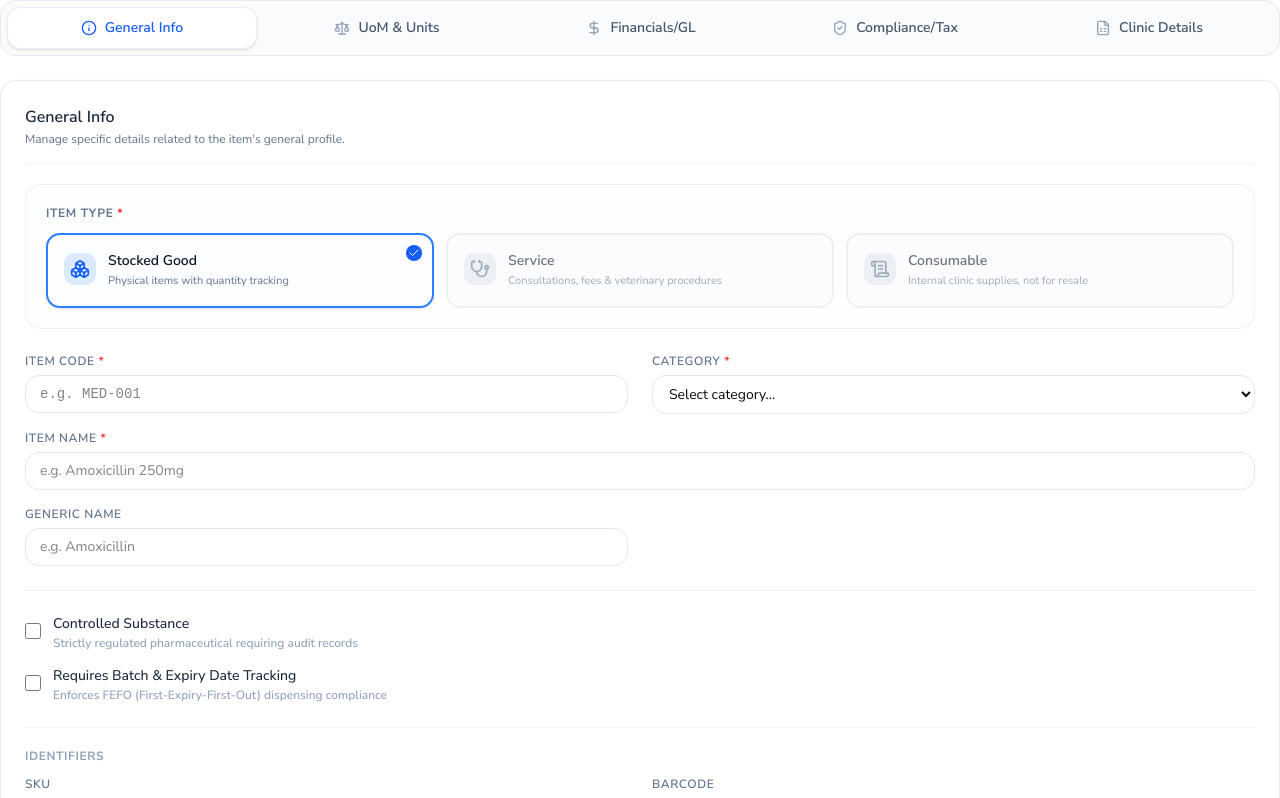
Scenario: ItemForm › Tab navigation › switches to financials tab on click
The image size is (1280, 798).
Click the button "Financials/GL" at (641, 28), box [517,7,765,49]
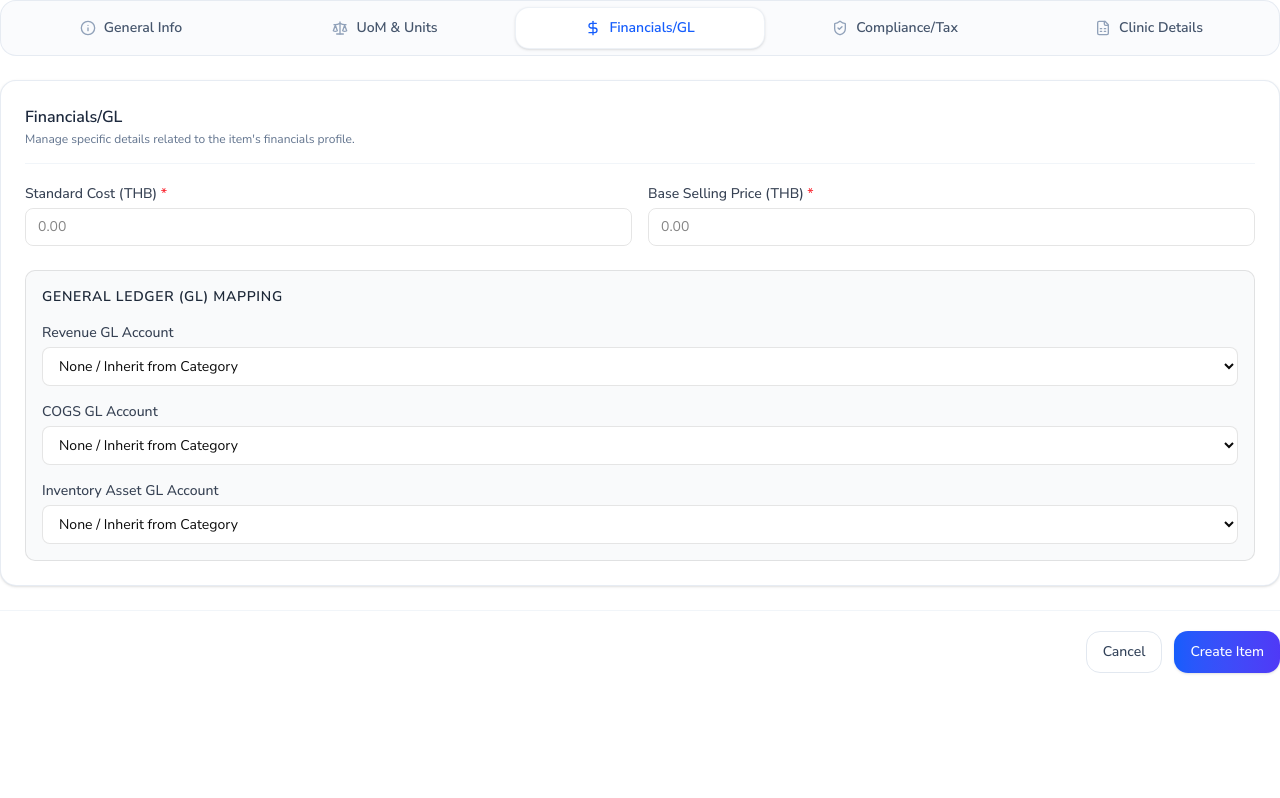
Now the number field labelled "Base Selling Price (THB) *" is shown, box [648,208,1255,246]
